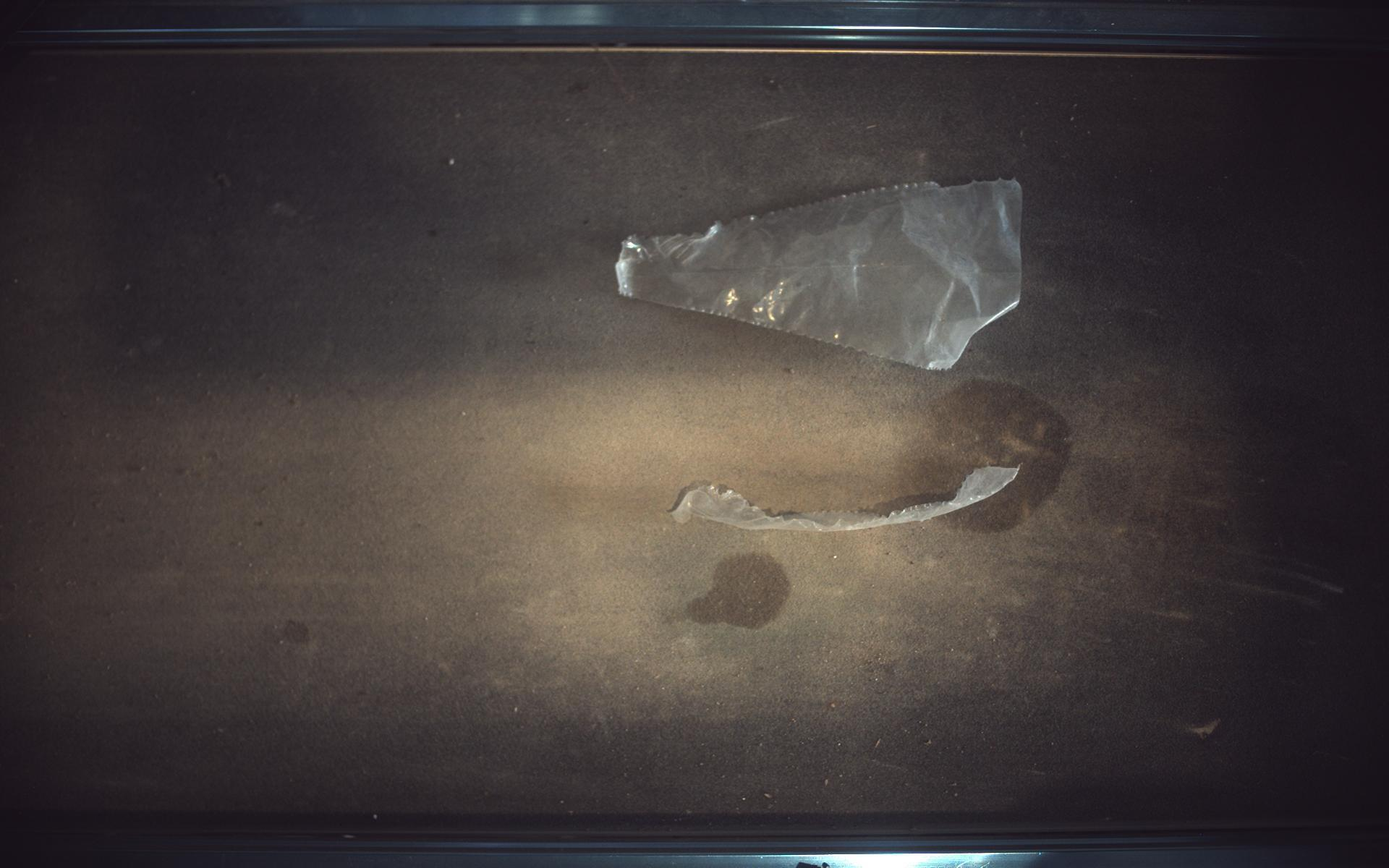general_w: (616, 179, 1024, 369), (672, 467, 1021, 532)
